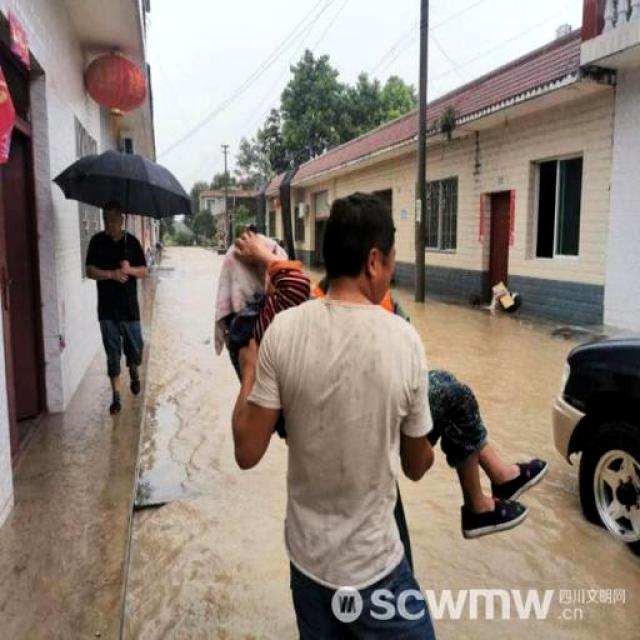civilian: (207, 215, 558, 556), (225, 184, 460, 640), (62, 190, 177, 436)
